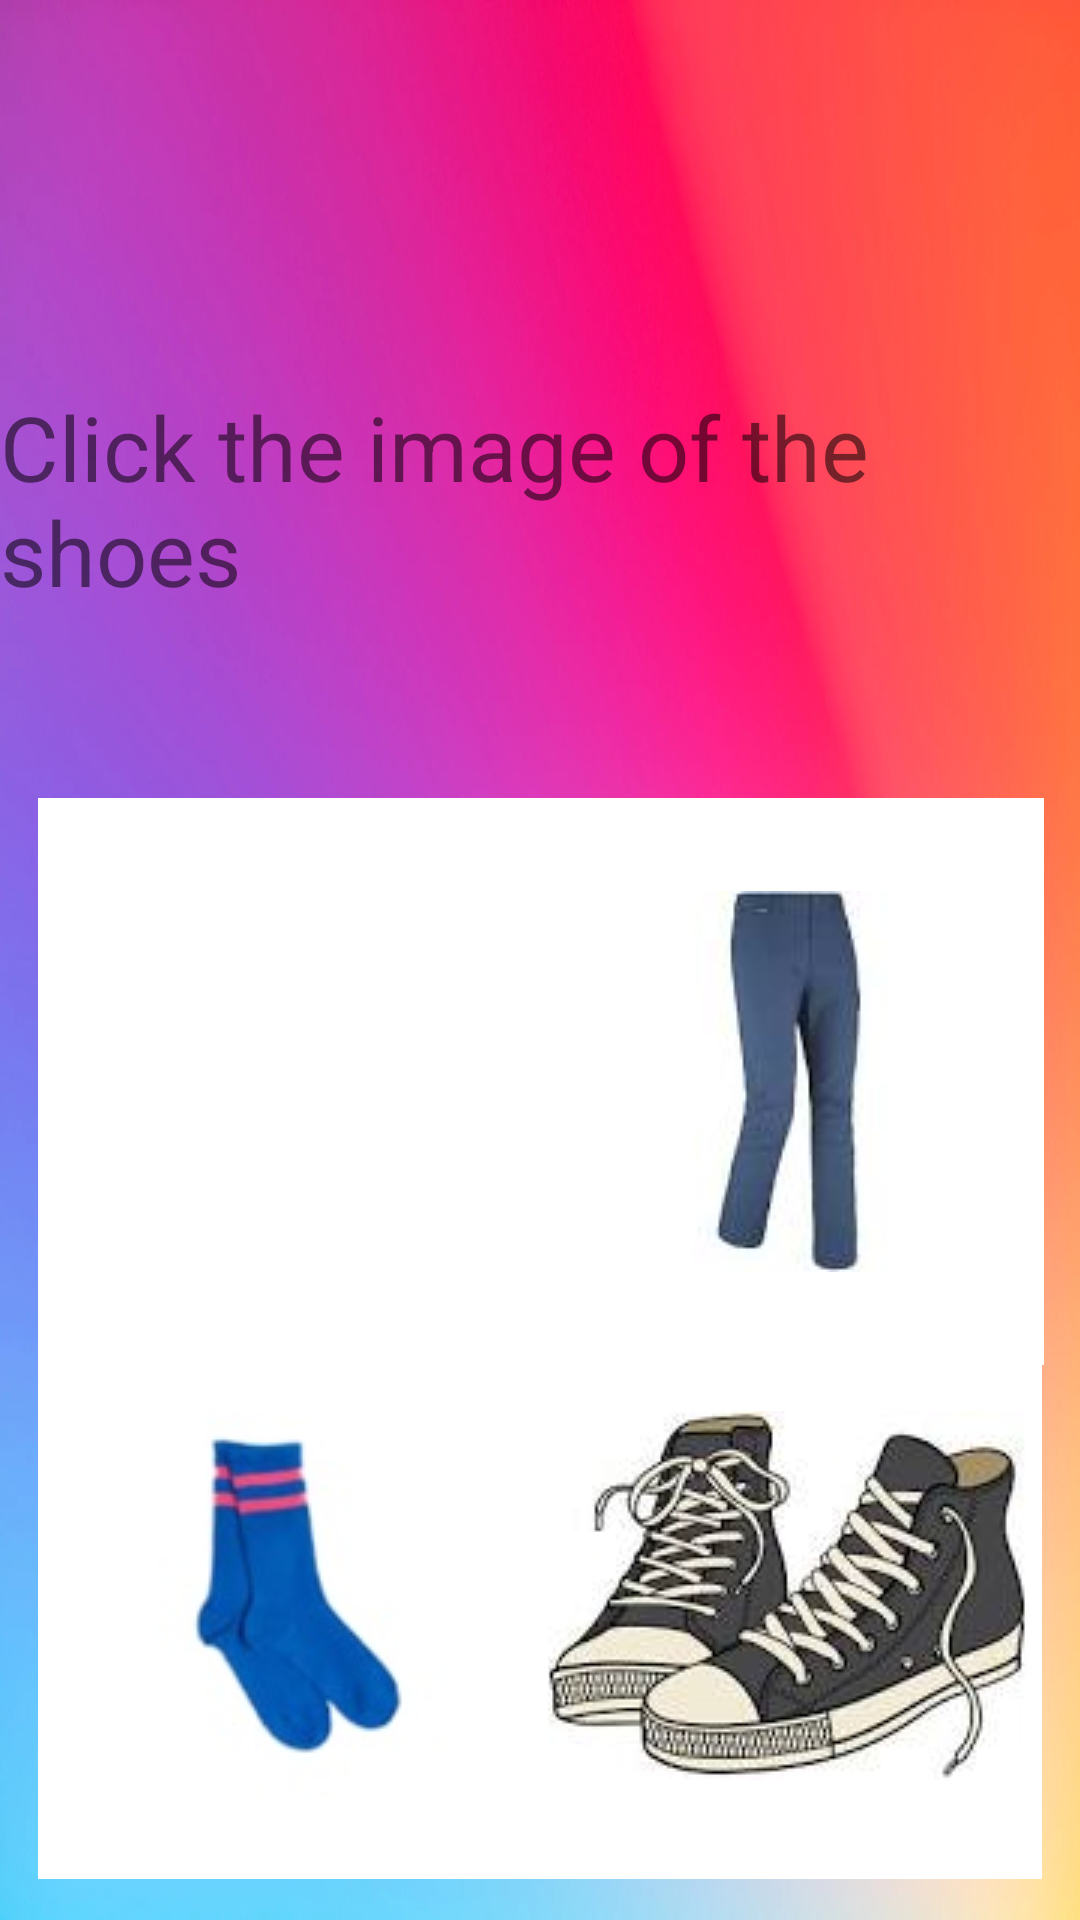

Where icons sit on this 1080×1920 app screen, as (x1, y1, x2, y2):
Sock Picture: (195, 1438, 402, 1753)
